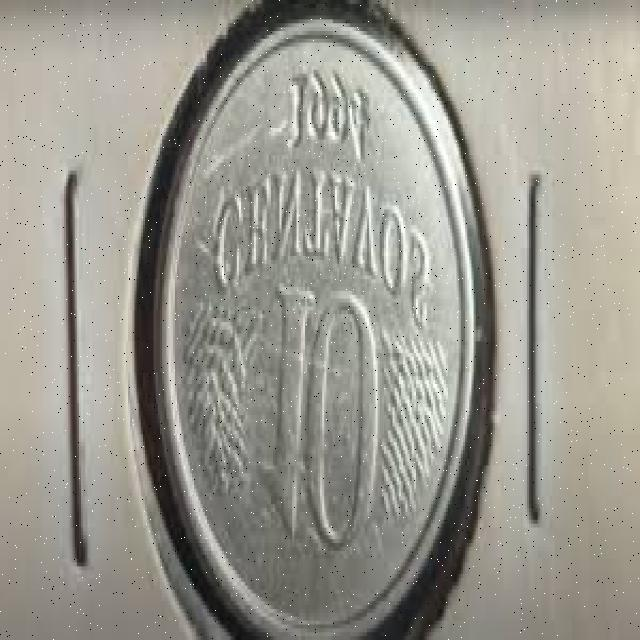10 cent: (156, 20, 481, 640)
